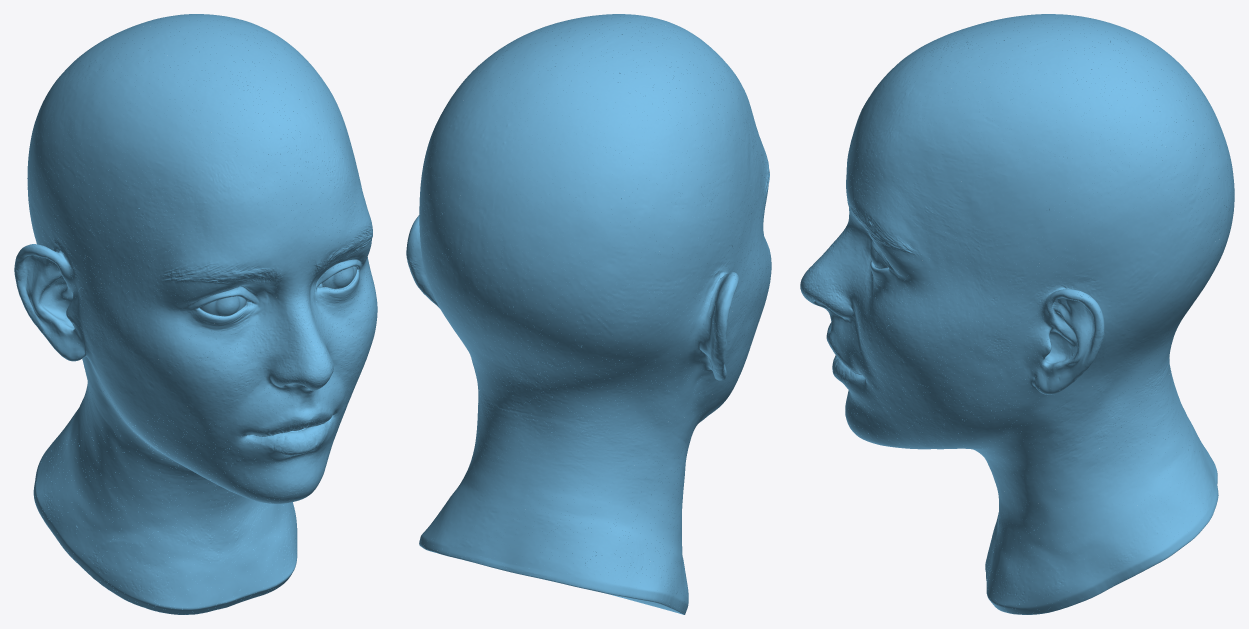
Rendered from 石膏头像_女中青年_02_opt.glb.
3 renders of one model, left to right at view 1: azimuth 30°, elevation 25°; view 2: azimuth 150°, elevation 25°; view 3: azimuth 270°, elevation 25°, orthographic. The views are drawn at different scales.
Visible parts, largest first — view 1: material_0_2, material_0_4, material_0_10, material_0_8, material_0_12, material_0_16, material_0_14, material_0_6, material_0, material_0_1, material_0_11, material_0_3 (+8 smaller); view 2: material_0_8, material_0_12, material_0_2, material_0_14, material_0_10, material_0_4, material_0_16, material_0, material_0_6, material_0_1, material_0_9, material_0_13 (+7 smaller); view 3: material_0_6, material_0_4, material_0_12, material_0_14, material_0_16, material_0_2, material_0_8, material_0_10, material_0, material_0_1, material_0_7, material_0_13 (+8 smaller).
Part boxes in pixels (x1,y1,x2,y2): material_0_2: [27, 31, 375, 606]; material_0_4: [14, 29, 376, 606]; material_0_10: [15, 25, 352, 583]; material_0_8: [15, 14, 341, 598]; material_0_12: [15, 21, 371, 613]; material_0_16: [14, 14, 373, 614]; material_0_14: [15, 20, 372, 614]; material_0_6: [14, 14, 377, 614]; material_0: [15, 14, 376, 614]; material_0_1: [16, 14, 375, 612]; material_0_11: [15, 25, 341, 571]; material_0_3: [30, 34, 374, 578]; material_0_8: [406, 14, 764, 612]; material_0_12: [408, 15, 771, 611]; material_0_2: [420, 14, 770, 595]; material_0_14: [410, 14, 770, 613]; material_0_10: [406, 14, 770, 591]; material_0_4: [419, 30, 771, 602]; material_0_16: [407, 14, 771, 614]; material_0: [408, 14, 771, 611]; material_0_6: [420, 34, 767, 614]; material_0_1: [412, 15, 767, 605]; material_0_9: [407, 14, 751, 608]; material_0_13: [408, 17, 762, 594]; material_0_6: [804, 20, 1234, 608]; material_0_4: [800, 42, 1230, 584]; material_0_12: [821, 34, 1234, 614]; material_0_14: [827, 24, 1234, 614]; material_0_16: [801, 15, 1234, 614]; material_0_2: [800, 30, 1234, 550]; material_0_8: [806, 14, 1234, 607]; material_0_10: [815, 14, 1234, 613]; material_0: [800, 15, 1234, 613]; material_0_1: [802, 15, 1234, 612]; material_0_7: [809, 46, 1214, 606]; material_0_13: [822, 37, 1234, 612].
Size of the model in its own units: 0.1759 by 0.3 by 0.2119.
